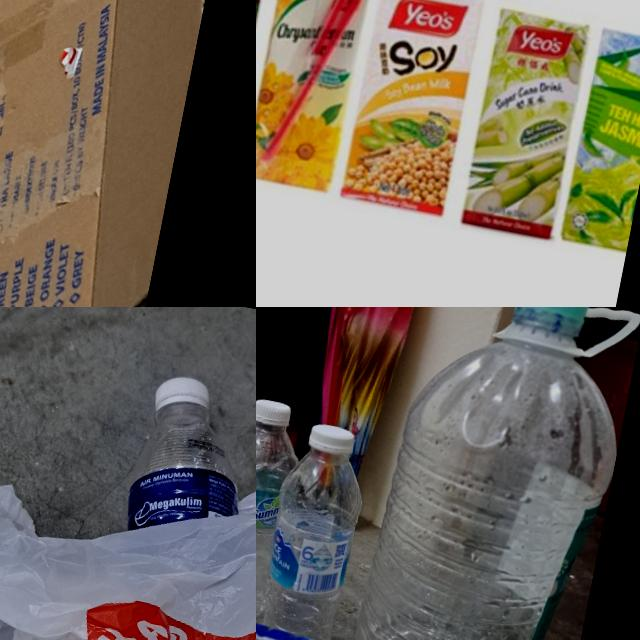caixinha: (345, 0, 490, 211), (462, 1, 592, 230), (256, 0, 372, 193), (565, 27, 640, 254)
garrafa plástica: (346, 324, 634, 640), (112, 403, 256, 583), (256, 444, 367, 640), (256, 427, 306, 618)
papelão: (0, 0, 241, 307)
sacola plástica: (0, 415, 256, 640)
tampa plástica: (153, 364, 216, 422), (510, 307, 591, 341), (307, 420, 353, 464), (256, 393, 292, 430)
